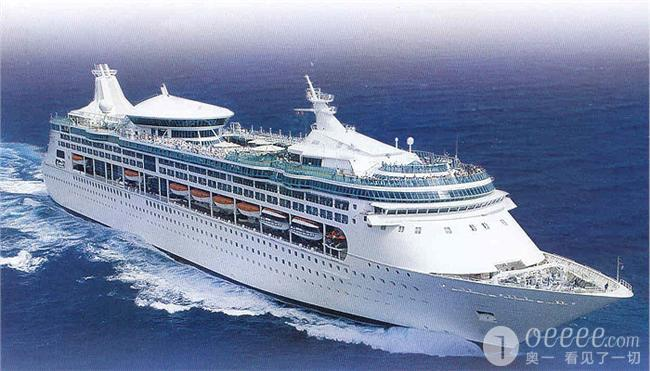youlun: (40, 58, 635, 336)
